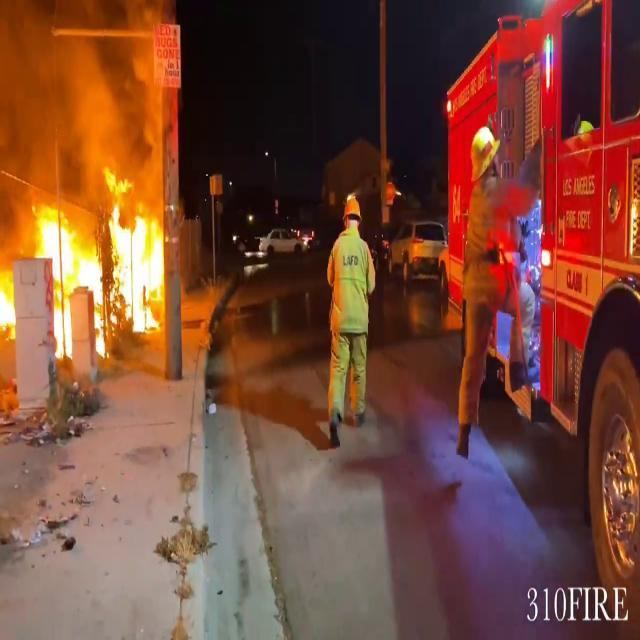Fire: (38, 159, 170, 355), (0, 264, 21, 336)
Smoke: (0, 0, 164, 204)
